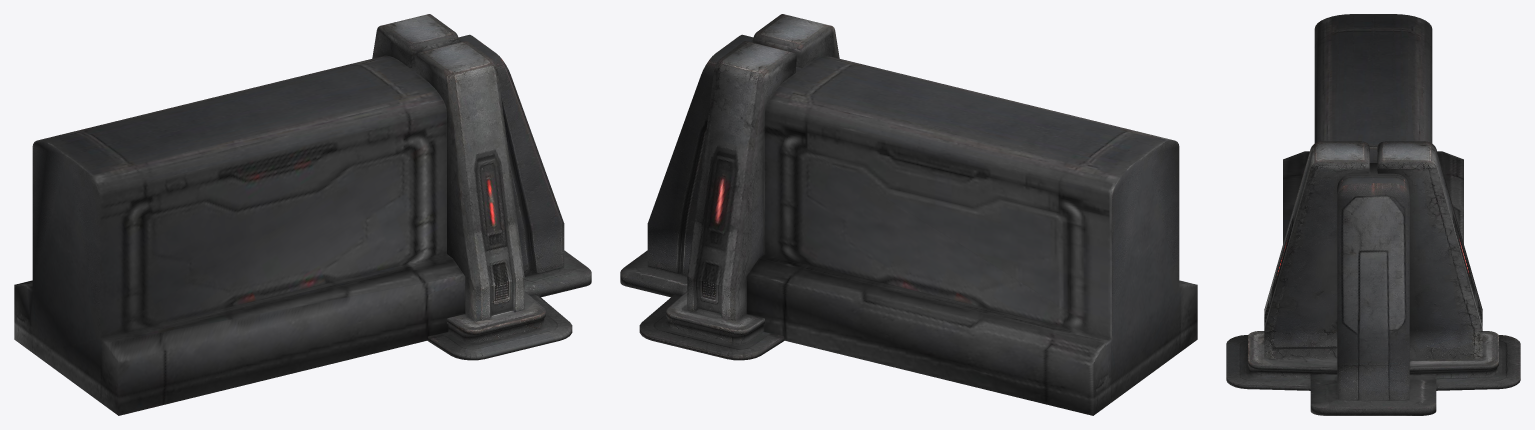
The model's file is prop_wall_low.glb.
3 renders of one model, left to right at view 1: azimuth 30°, elevation 25°; view 2: azimuth 150°, elevation 25°; view 3: azimuth 270°, elevation 25°, orthographic. The views are drawn at different scales.
Visible parts, largest first — view 1: Mesh_0; view 2: Mesh_0; view 3: Mesh_0.
Boxes of the visible parts, left/top/right/bottom form: Mesh_0: left=14, top=14, right=591, bottom=415; Mesh_0: left=620, top=14, right=1197, bottom=415; Mesh_0: left=1226, top=14, right=1520, bottom=415.
Bounding box in the file's own units: 2 × 0.9461 × 1.19.
Materials: 1 (1 with a texture image).
